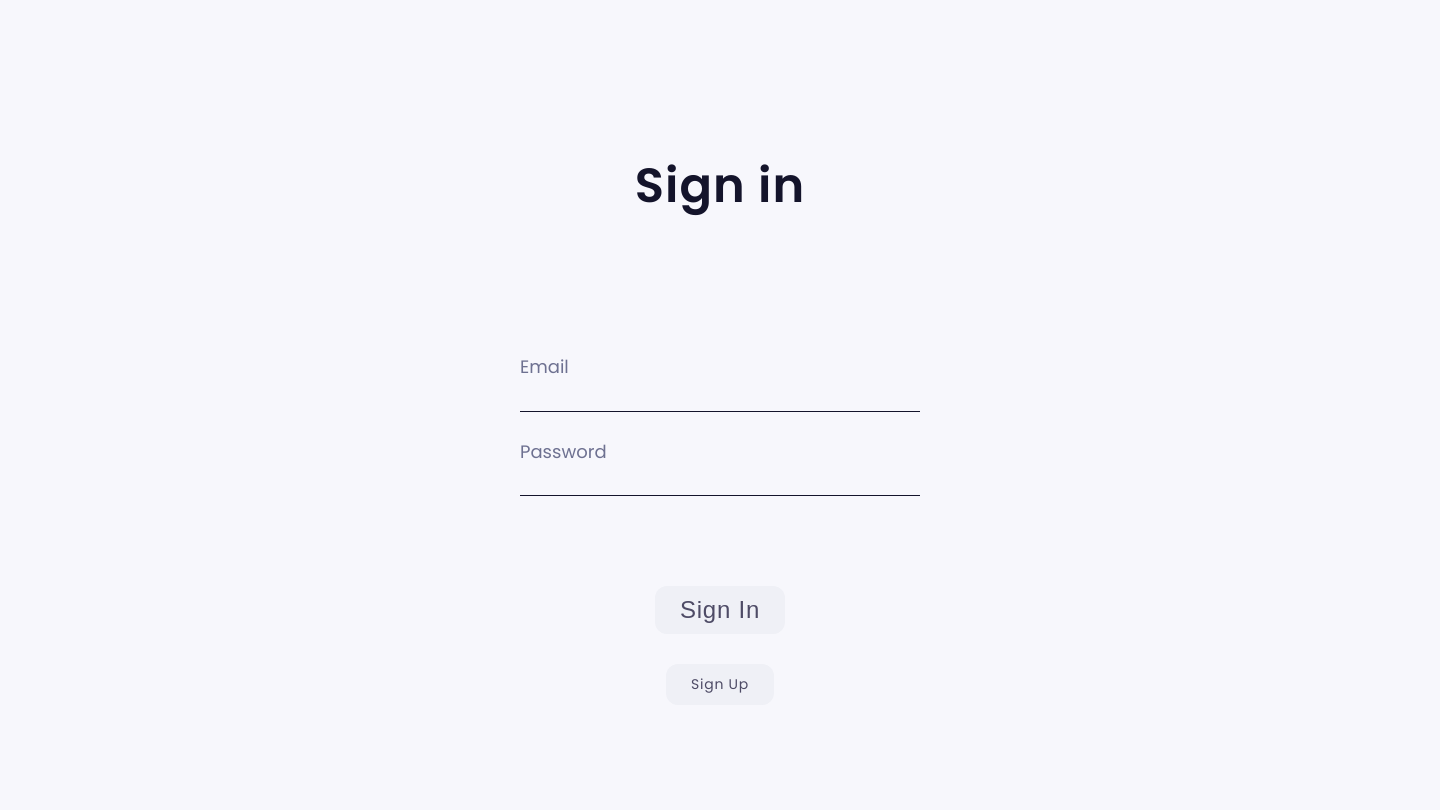
should signup as admin
Click the link "Sign Up": click(720, 685) [666, 664, 774, 705]
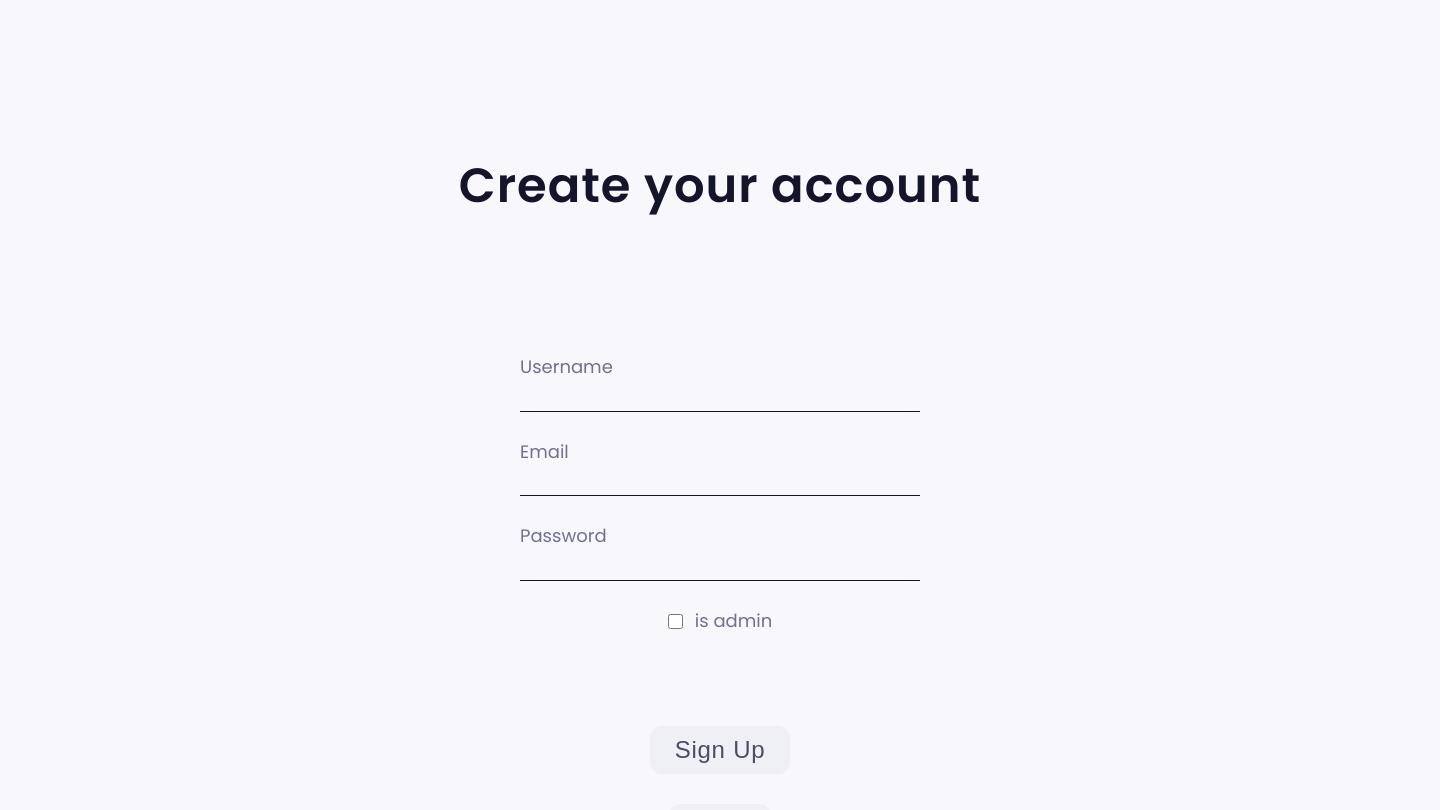
In the field labelled "Username": (720, 397) [520, 383, 920, 412], type "alina"
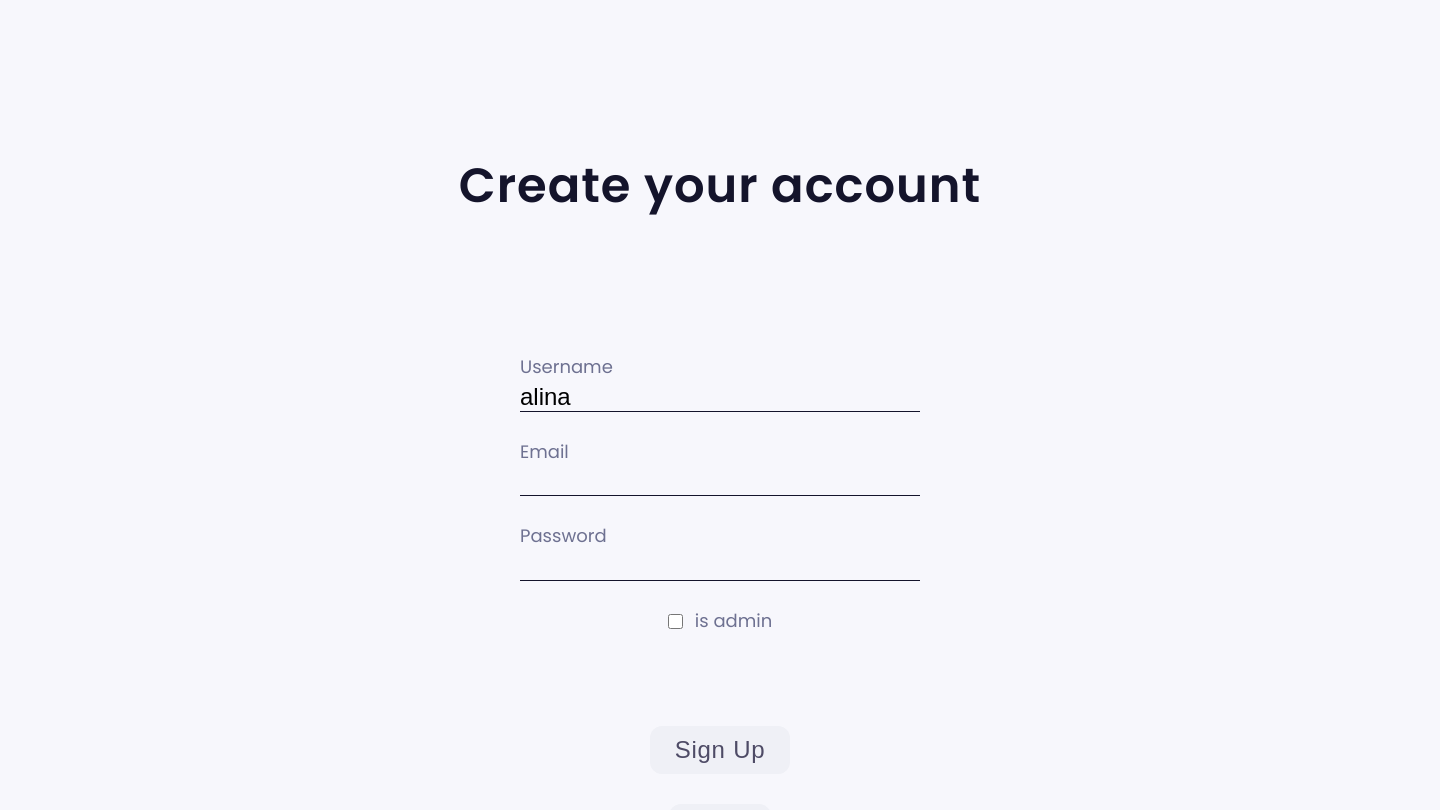
In the field labelled "Email": (720, 482) [520, 467, 920, 496], type "alina@g"
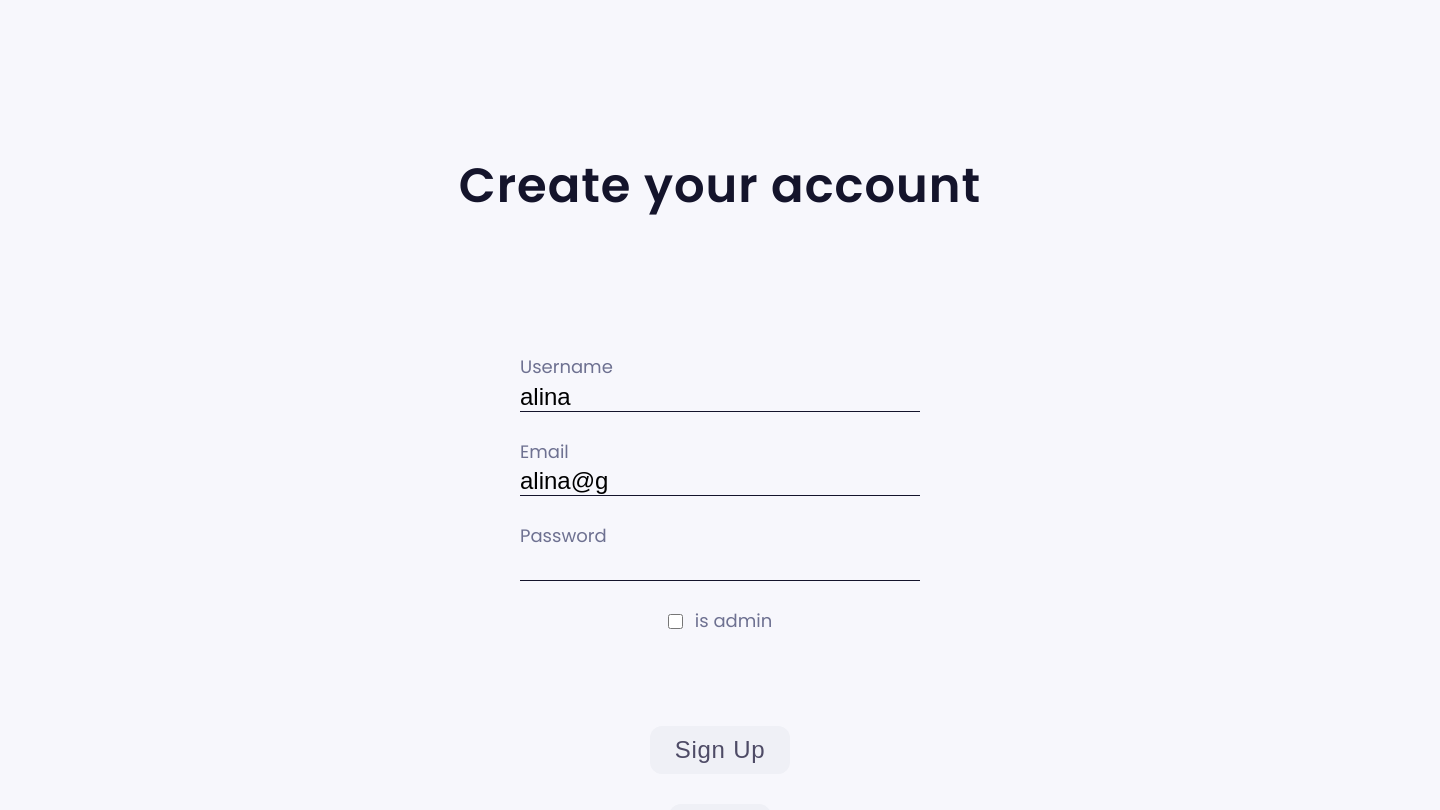
In the password field labelled "Password": (720, 566) [520, 552, 920, 581], type "123456"
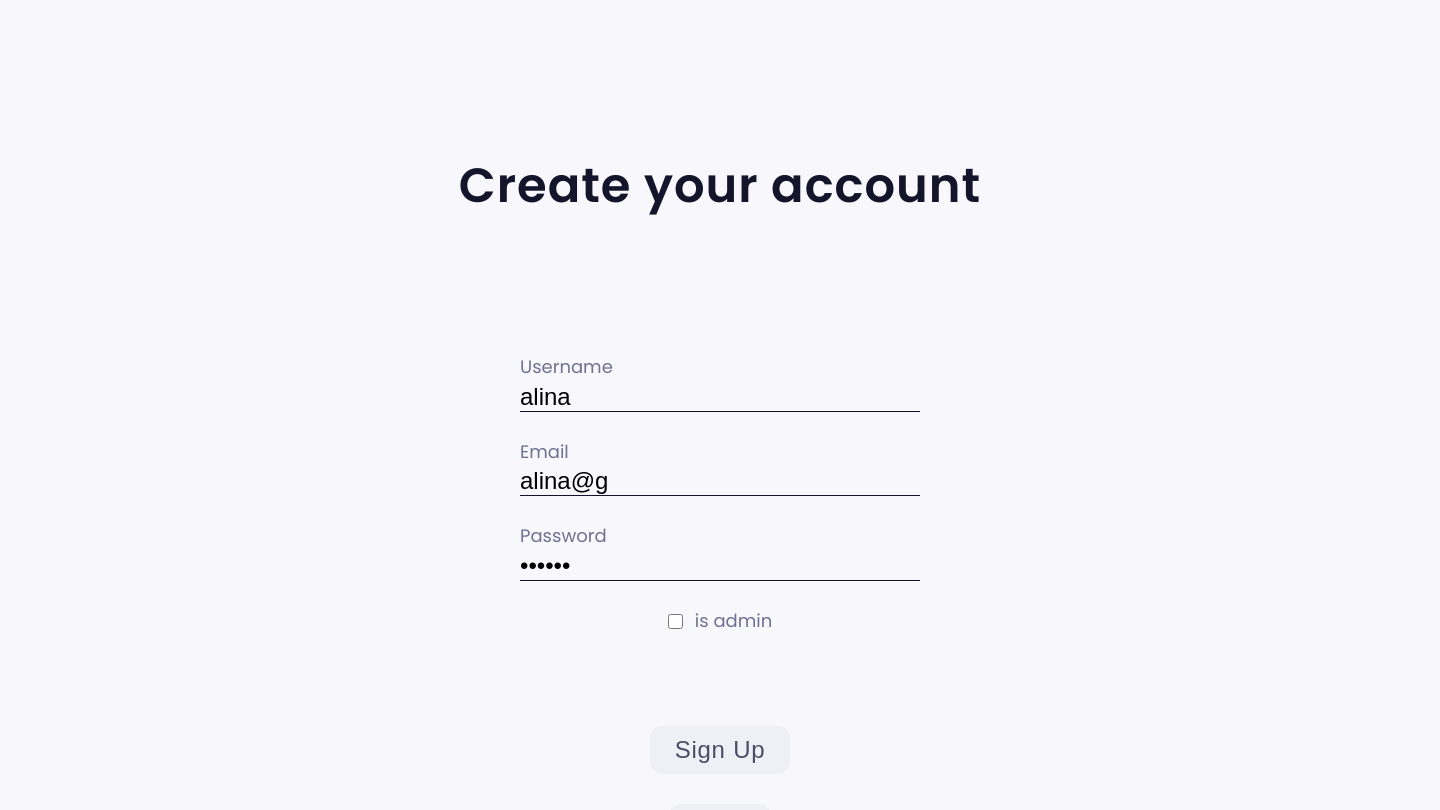
Click the checkbox labelled "is admin": click(675, 621) [668, 614, 683, 629]
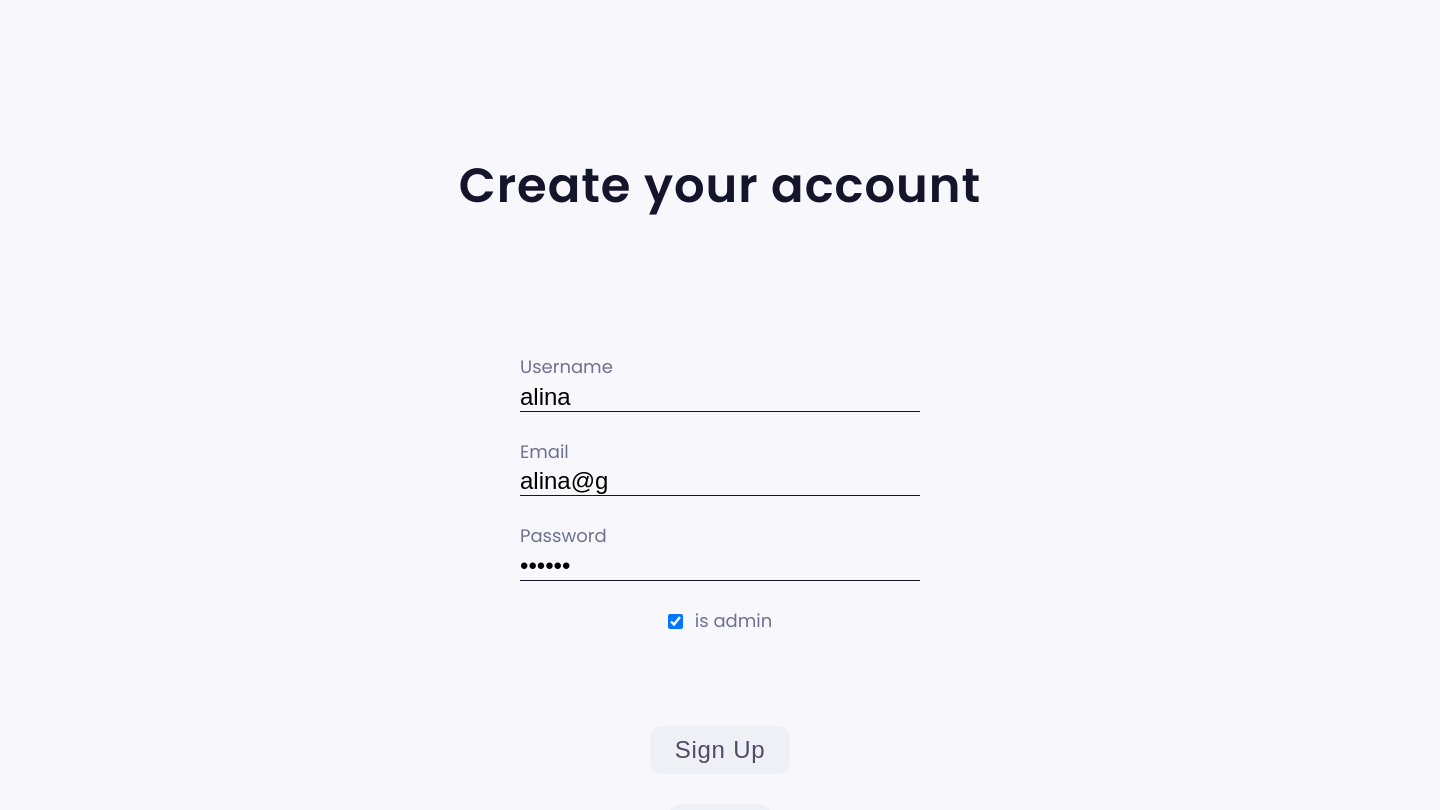
Now the checkbox labelled "is admin" is checked, box [668, 614, 683, 629]
Click the button "Sign Up": click(720, 750) [650, 726, 790, 774]
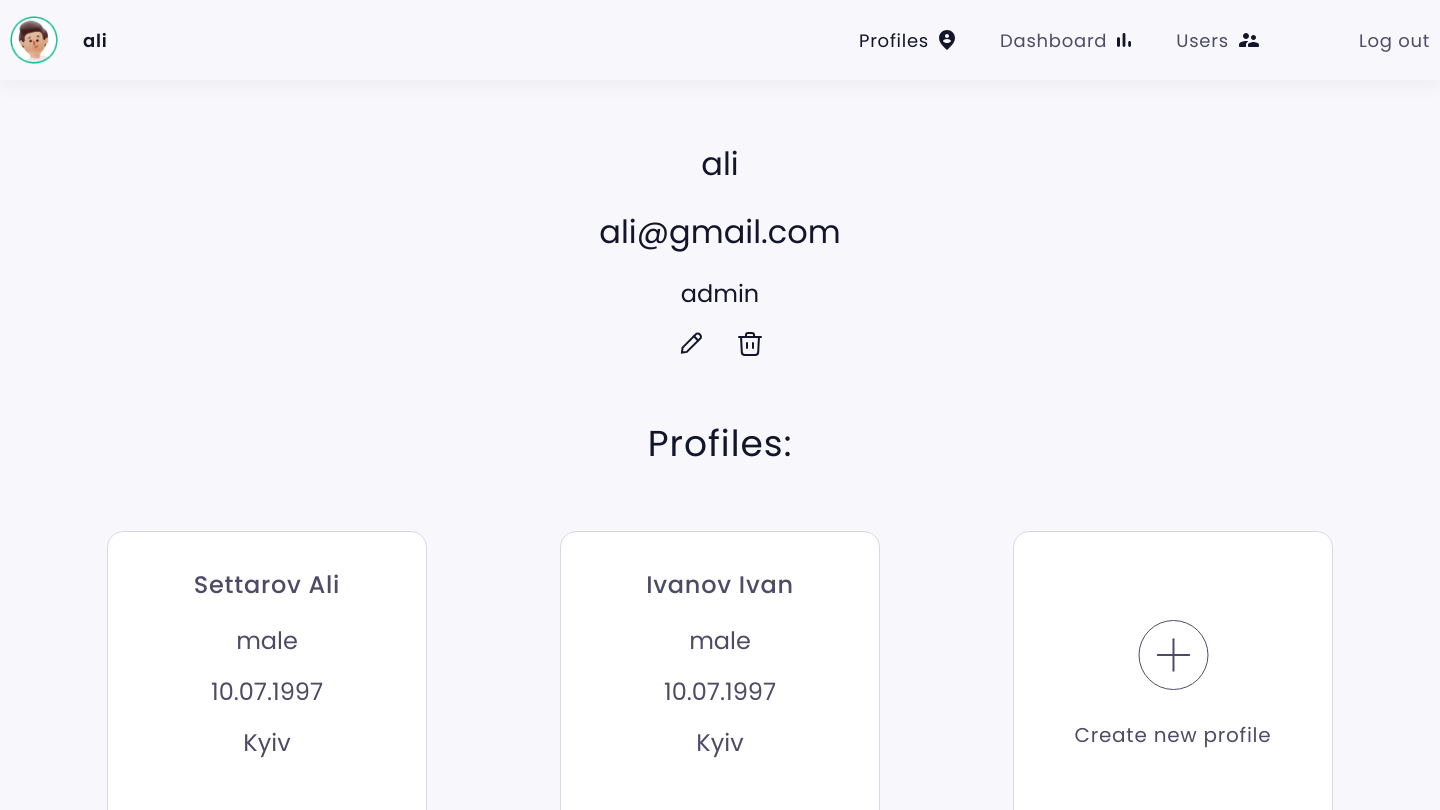
Now the link "Log out" is shown, box [1359, 26, 1430, 54]
